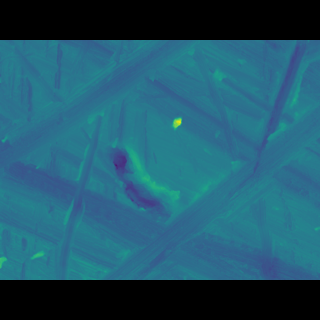Loch: (98, 116, 320, 253), (0, 68, 195, 164), (54, 125, 106, 250)
